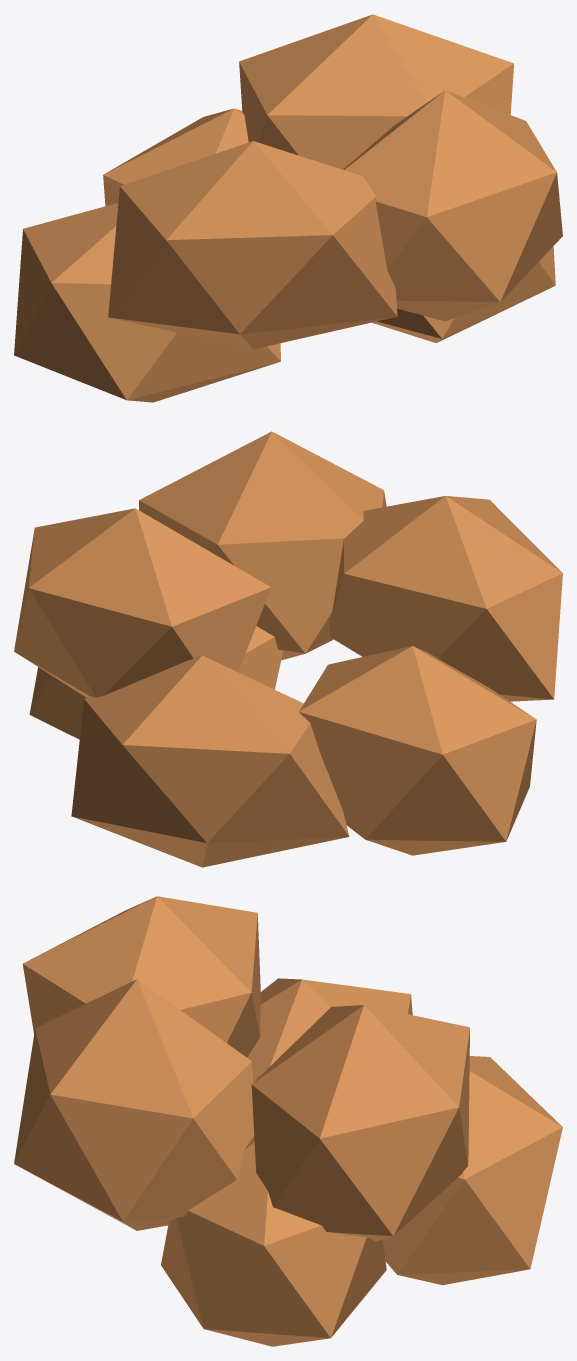
File: crushed-copper-ore.glb
3 renders of one model, top to bottom at view 1: azimuth 30°, elevation 25°; view 2: azimuth 150°, elevation 25°; view 3: azimuth 270°, elevation 25°, orthographic. The views are drawn at different scales.
Parts seen in each view (by area): view 1: crushed-copper-ore / Copper; view 2: crushed-copper-ore / Copper; view 3: crushed-copper-ore / Copper.
Boxes of the visible parts, bbox=[...] form: crushed-copper-ore / Copper: bbox=[14, 14, 562, 402]; crushed-copper-ore / Copper: bbox=[14, 431, 562, 867]; crushed-copper-ore / Copper: bbox=[14, 896, 562, 1346].
Size of the model in its own units: 0.2373 by 0.1444 by 0.209.
